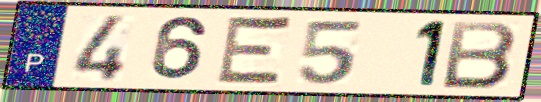1: (408, 18, 451, 91)
4: (69, 12, 133, 83)
5: (295, 19, 367, 87)
6: (149, 14, 209, 84)
B: (439, 19, 521, 92)
E: (212, 12, 297, 89)
